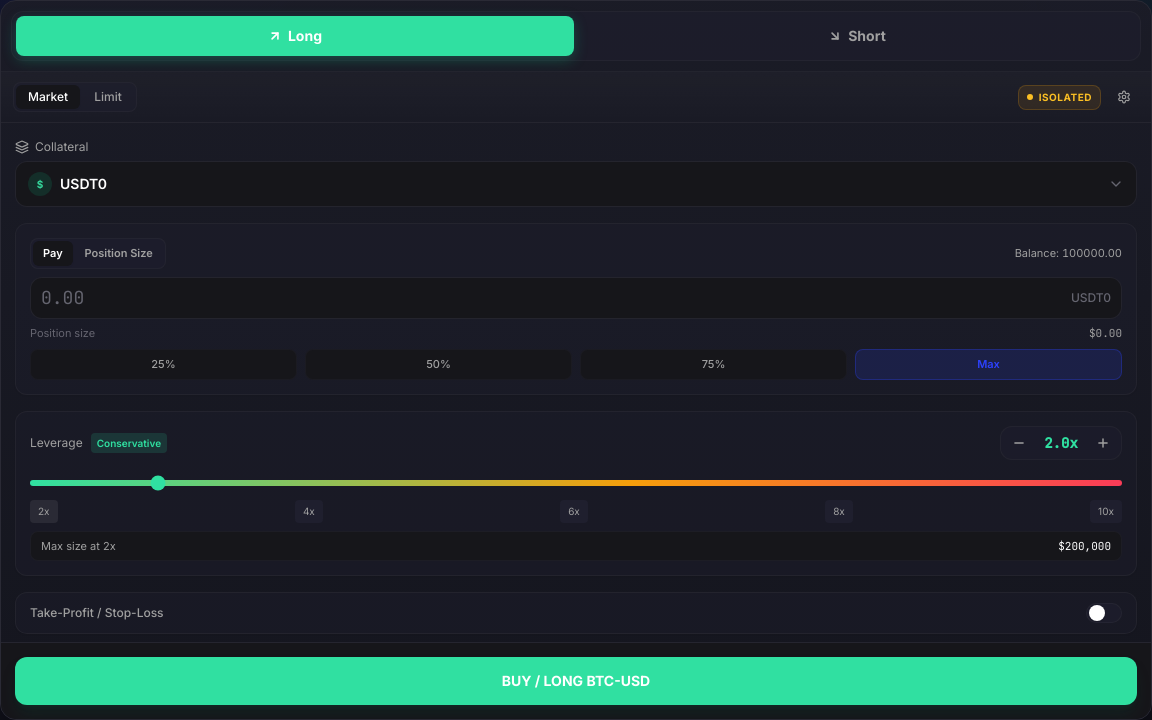
Test: TradingForm input modes and preview › applies percentage and max buttons in both pay and size modes
// pay mode percentage + max
Click the button "25%".
click(164, 364)  # box [30, 349, 297, 380]
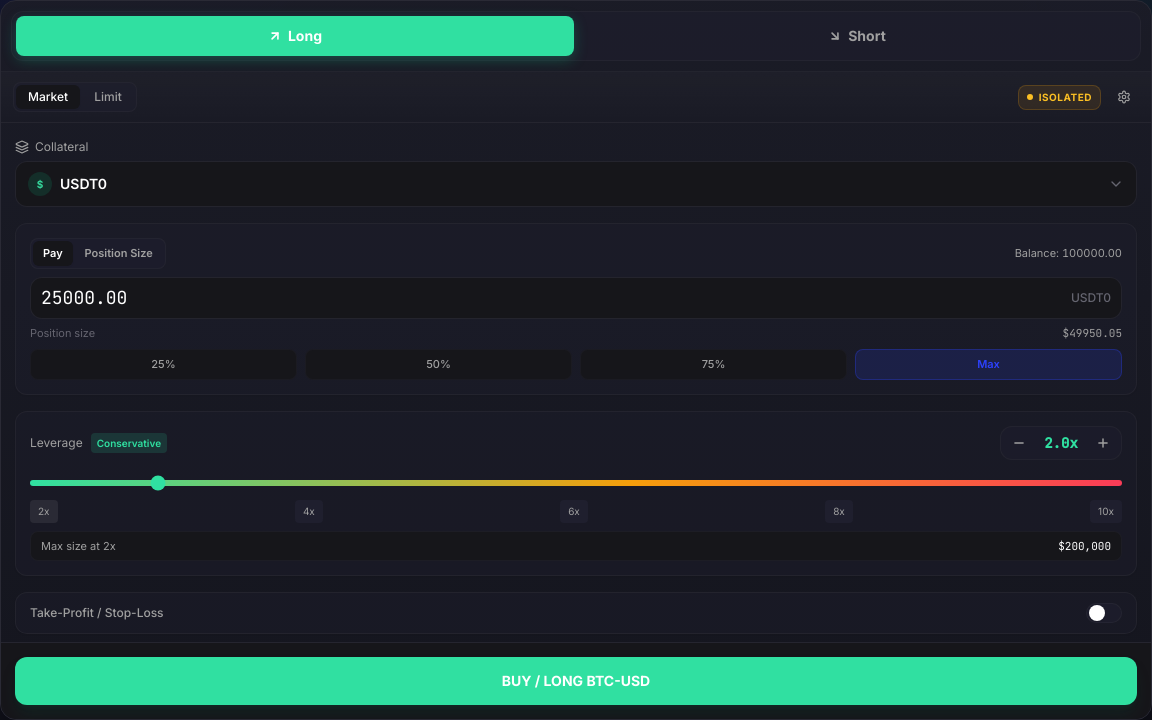
Click the button "Max".
click(988, 364)  # box [855, 349, 1122, 380]
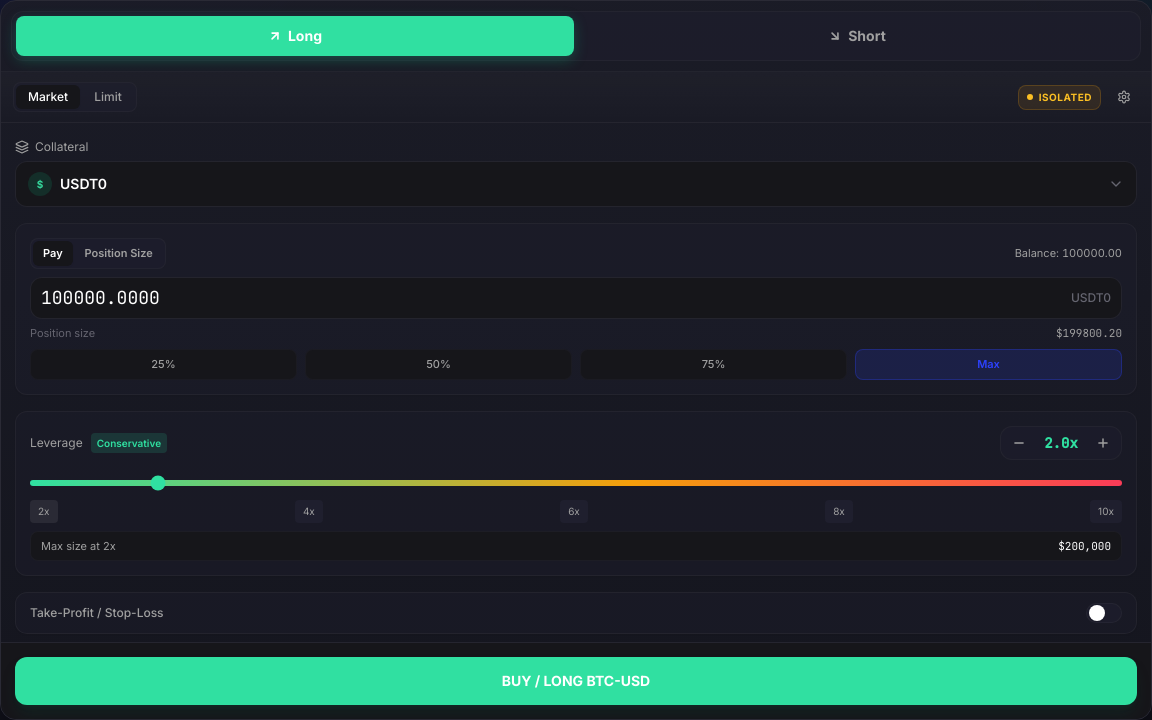
// switch to size mode and use them again
Click the button with test id "amount-mode-size".
click(119, 253)  # box [75, 241, 163, 266]
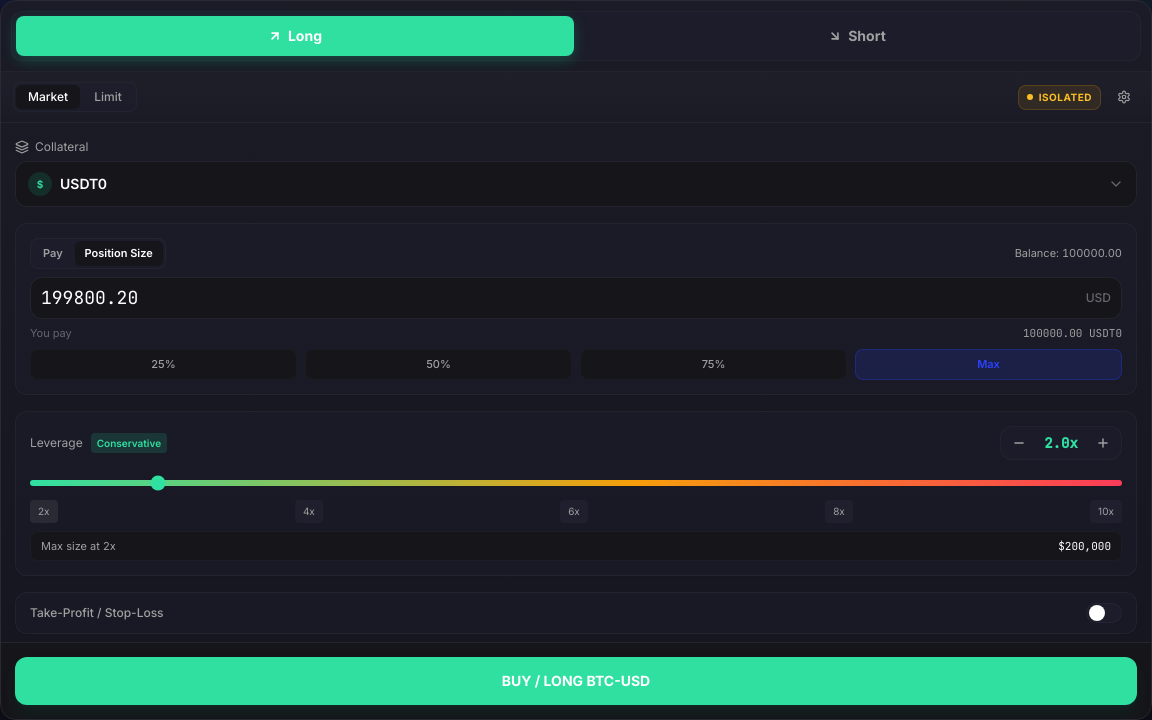
Click the button "50%".
click(438, 364)  # box [305, 349, 572, 380]
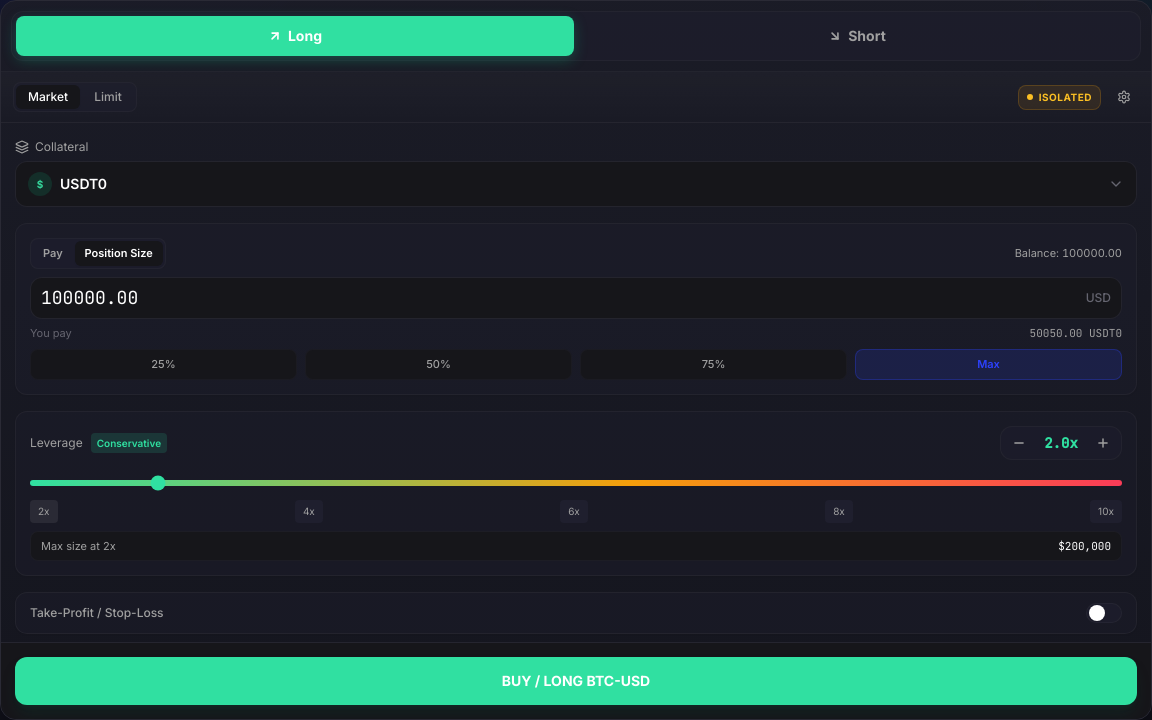
Click the button "75%".
click(714, 364)  # box [580, 349, 847, 380]
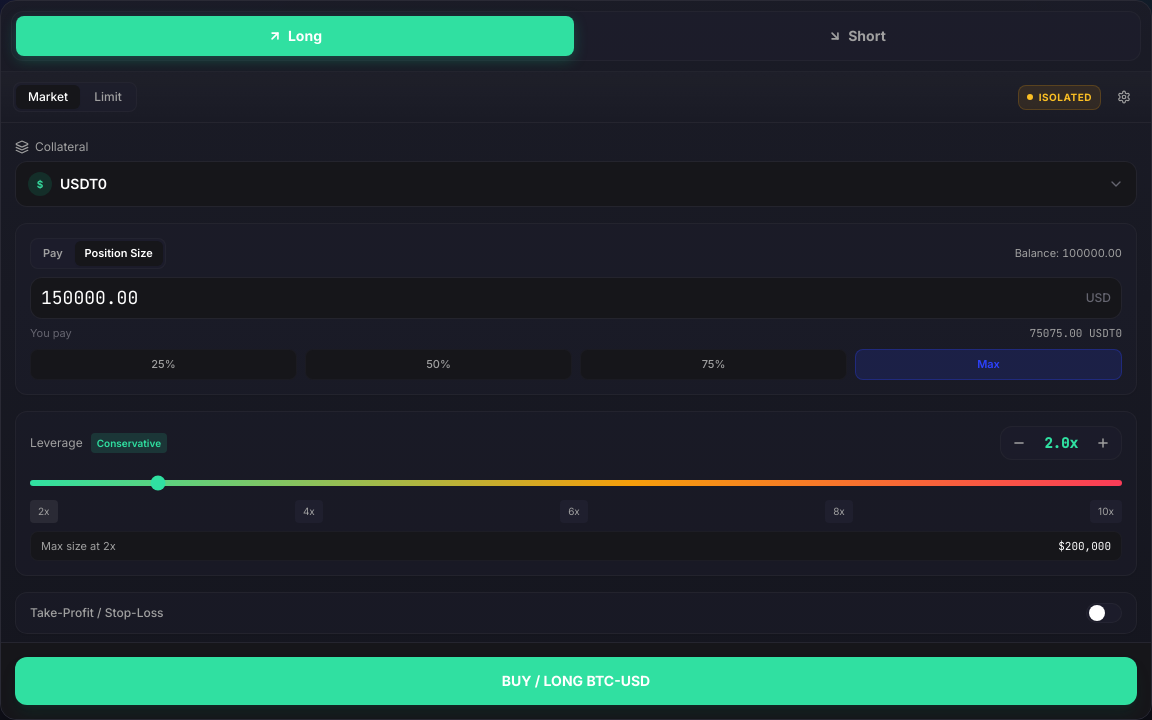
Click the button "Max".
click(988, 364)  # box [855, 349, 1122, 380]
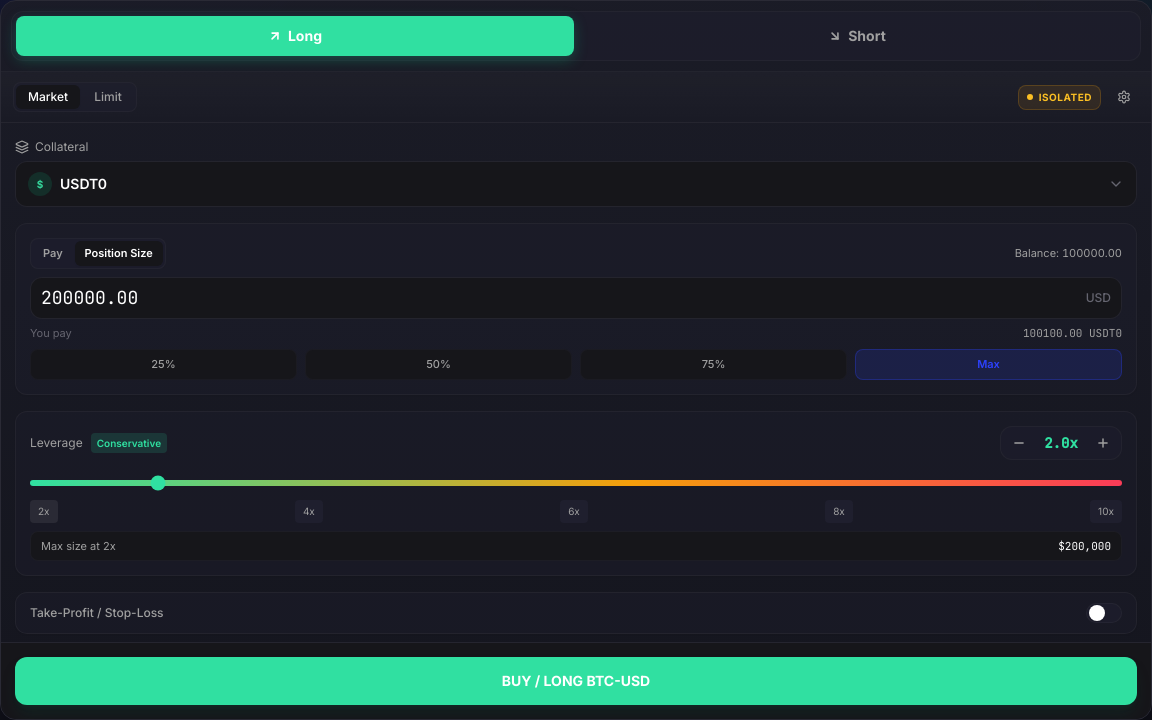
Expected: the number field with test id "margin-input" is not empty, [41, 284, 1078, 312]
